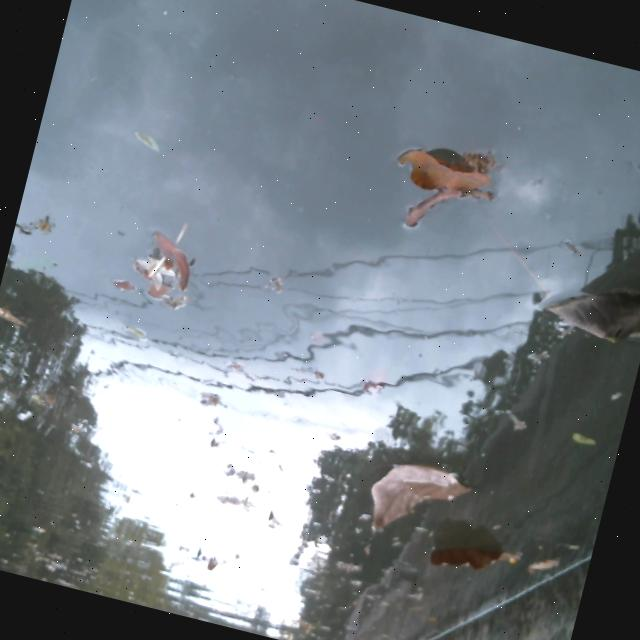Big-leaf: (348, 441, 478, 554), (533, 251, 640, 362), (384, 128, 504, 209), (422, 517, 527, 595)
Small-leaf: (141, 221, 207, 286), (524, 545, 565, 580), (125, 124, 166, 156), (0, 297, 35, 333), (569, 417, 603, 454), (104, 268, 141, 302), (143, 275, 176, 310), (256, 266, 293, 297), (500, 400, 533, 434), (358, 365, 390, 399), (200, 548, 228, 582)
